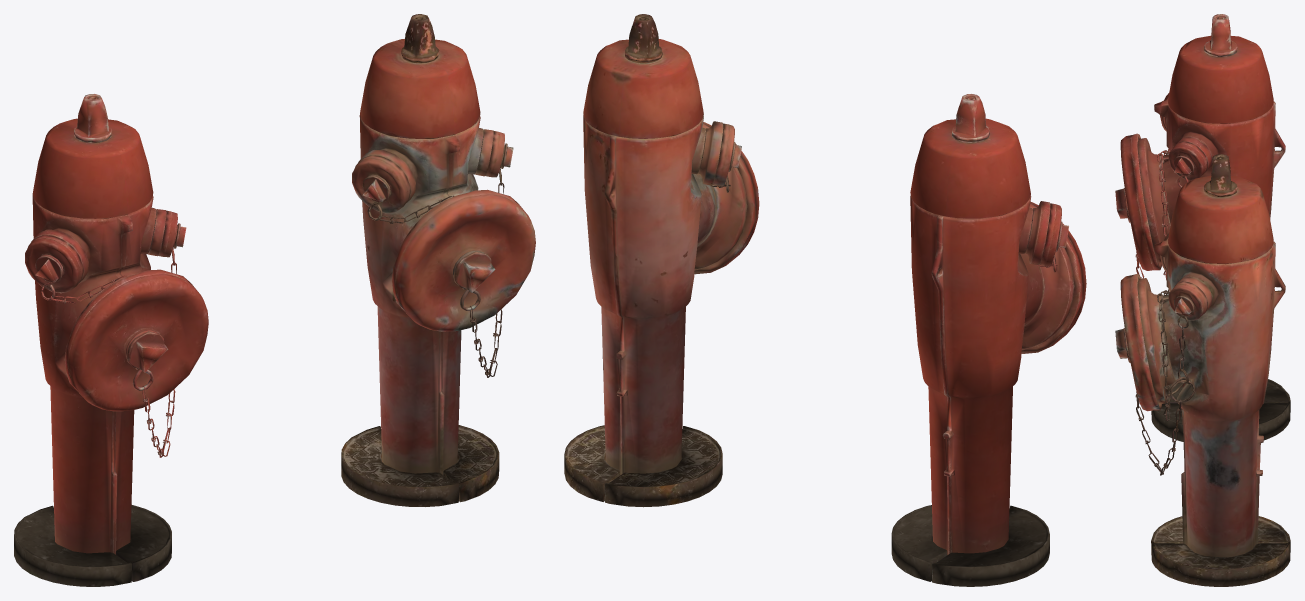
File: fire_hydrant.glb
The picture shows the model from 3 angles, left to right: view 1: azimuth 30°, elevation 25°; view 2: azimuth 150°, elevation 25°; view 3: azimuth 270°, elevation 25°; orthographic projection. The views are drawn at different scales.
Parts seen in each view (by area): view 1: fire_hydrant_aged, fire_hydrant, fire_hydrant_cap_01, fire_hydrant_cap_01_aged, fire_hydrant_cap_03_aged, fire_hydrant_cap_03, fire_hydrant_chain_aged, fire_hydrant_chain, fire_hydrant_cap_02_aged, fire_hydrant_cap_02; view 2: fire_hydrant, fire_hydrant_aged, fire_hydrant_cap_01_aged, fire_hydrant_cap_01, fire_hydrant_cap_03_aged, fire_hydrant_cap_03; view 3: fire_hydrant_aged, fire_hydrant, fire_hydrant_cap_01_aged, fire_hydrant_cap_01, fire_hydrant_chain_aged, fire_hydrant_cap_02_aged, fire_hydrant_cap_02, fire_hydrant_chain.
Boxes of the visible parts, x1,y1,x2,y2 form: fire_hydrant_aged: (341,14,499,506); fire_hydrant: (14,94,171,586); fire_hydrant_cap_01: (64,269,208,411); fire_hydrant_cap_01_aged: (392,189,535,331); fire_hydrant_cap_03_aged: (352,155,410,213); fire_hydrant_cap_03: (25,235,83,293); fire_hydrant_chain_aged: (367,145,504,377); fire_hydrant_chain: (40,224,177,457); fire_hydrant_cap_02_aged: (485,130,513,177); fire_hydrant_cap_02: (158,210,186,257); fire_hydrant: (891,94,1074,586); fire_hydrant_aged: (564,14,747,507); fire_hydrant_cap_01_aged: (694,122,759,274); fire_hydrant_cap_01: (1021,202,1086,353); fire_hydrant_cap_03_aged: (712,123,741,186); fire_hydrant_cap_03: (1039,203,1068,266); fire_hydrant_aged: (1138,154,1290,586); fire_hydrant: (1138,14,1290,441); fire_hydrant_cap_01_aged: (1115,273,1161,411); fire_hydrant_cap_01: (1115,133,1161,270); fire_hydrant_chain_aged: (1135,289,1195,475); fire_hydrant_cap_02_aged: (1168,281,1207,320); fire_hydrant_cap_02: (1168,141,1207,180); fire_hydrant_chain: (1135,149,1193,280).
Size of the model in its own units: 0.8745 by 0.7994 by 0.3173.
2 materials, 2 textured.
